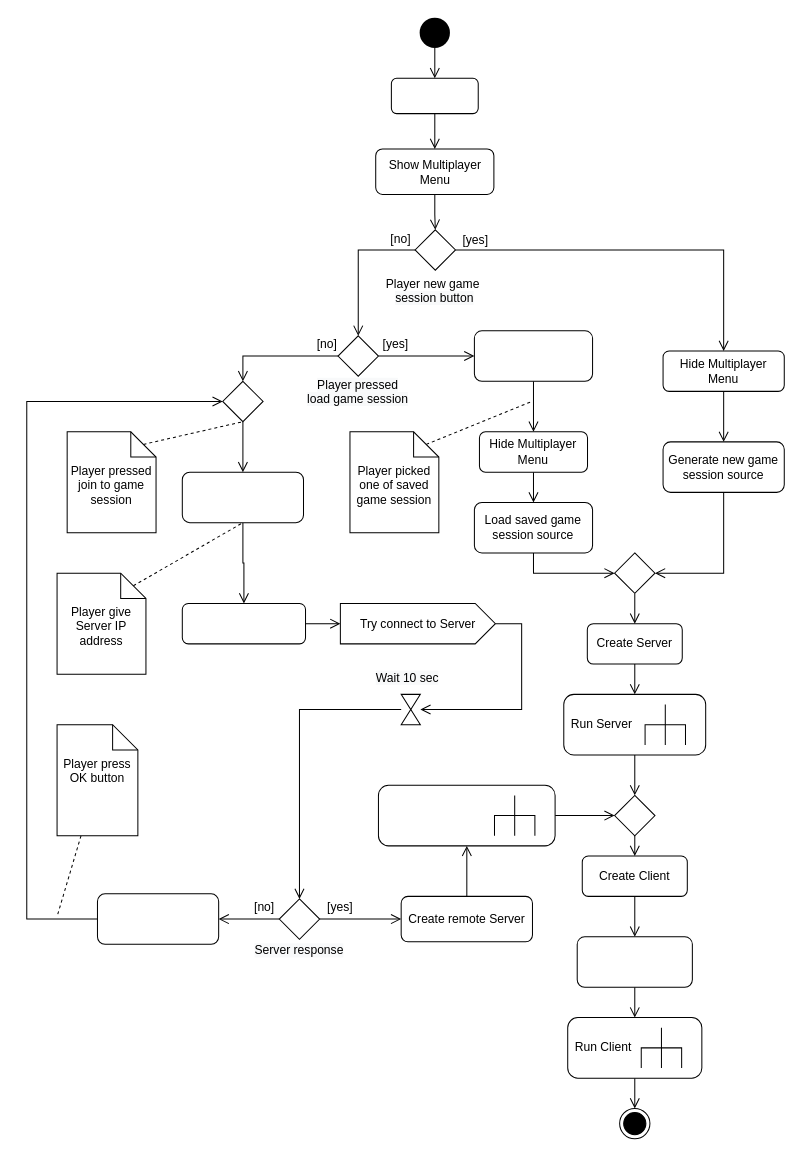
Some shapes in this 802 by 1156 pixel diagram are drawn without their labels. Here are the shapes that lost their labels. From the top down, the centre of each, then its label:
(x=434, y=95): Hide Menu
(x=533, y=355): Show list of saved game sessions
(x=242, y=497): Show IP Server address input prompt
(x=243, y=623): Create IP connection
(x=466, y=815): Run remote Server
(x=157, y=918): Show connection error popup
(x=634, y=961): Connect Client to Server
